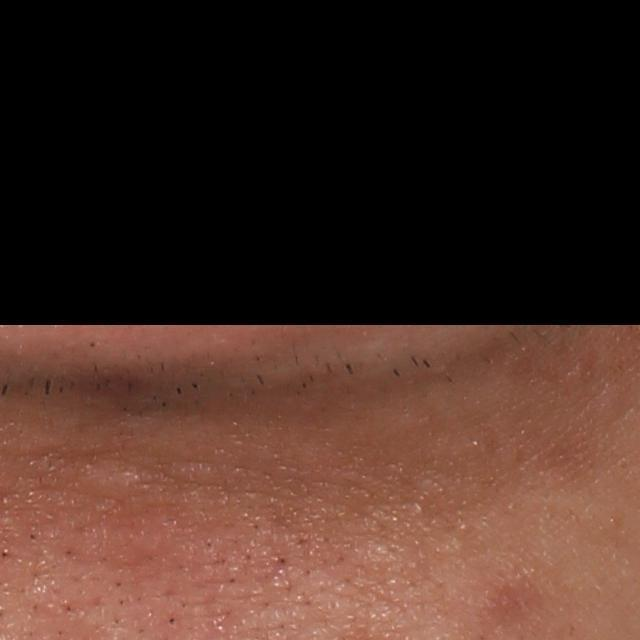hypertrophic_scar: (70, 462, 143, 501)
